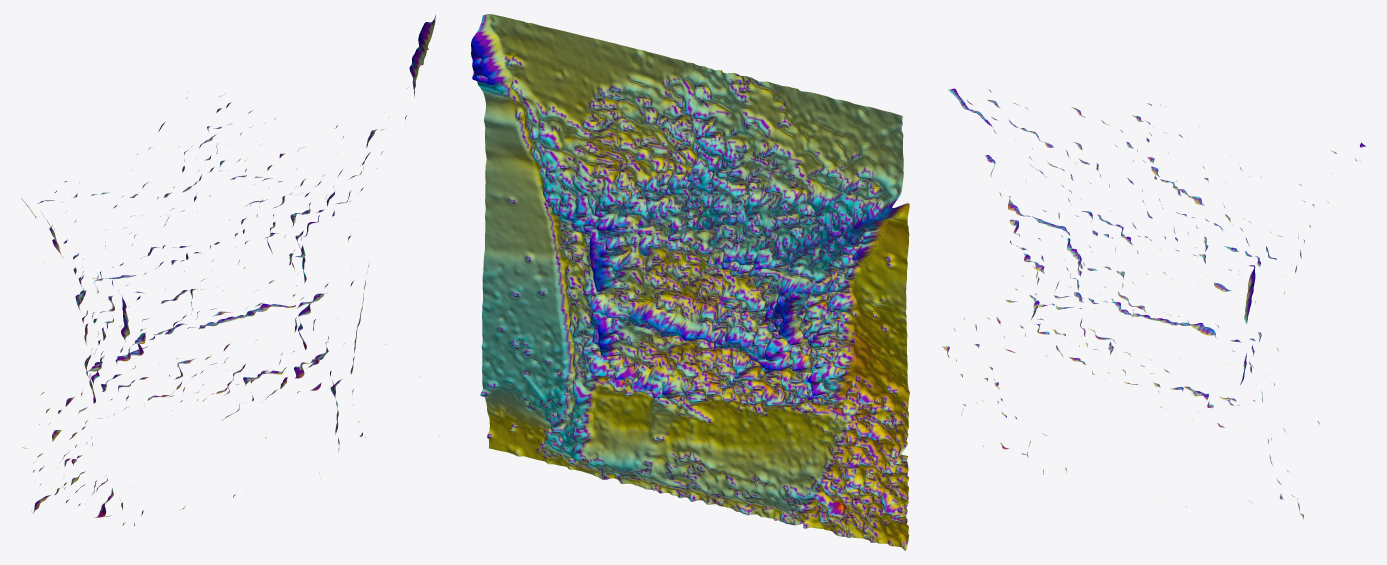
3 renders of one model, left to right at view 1: azimuth 30°, elevation 25°; view 2: azimuth 150°, elevation 25°; view 3: azimuth 330°, elevation 25°, orthographic.
Visible parts, largest first — view 1: world; view 2: world; view 3: world.
Part boxes in pixels (x1,y1,x2,y2): world: [20, 15, 435, 525]; world: [471, 14, 909, 550]; world: [942, 88, 1365, 519].
Size of the model in its own units: 299 by 299 by 30.
